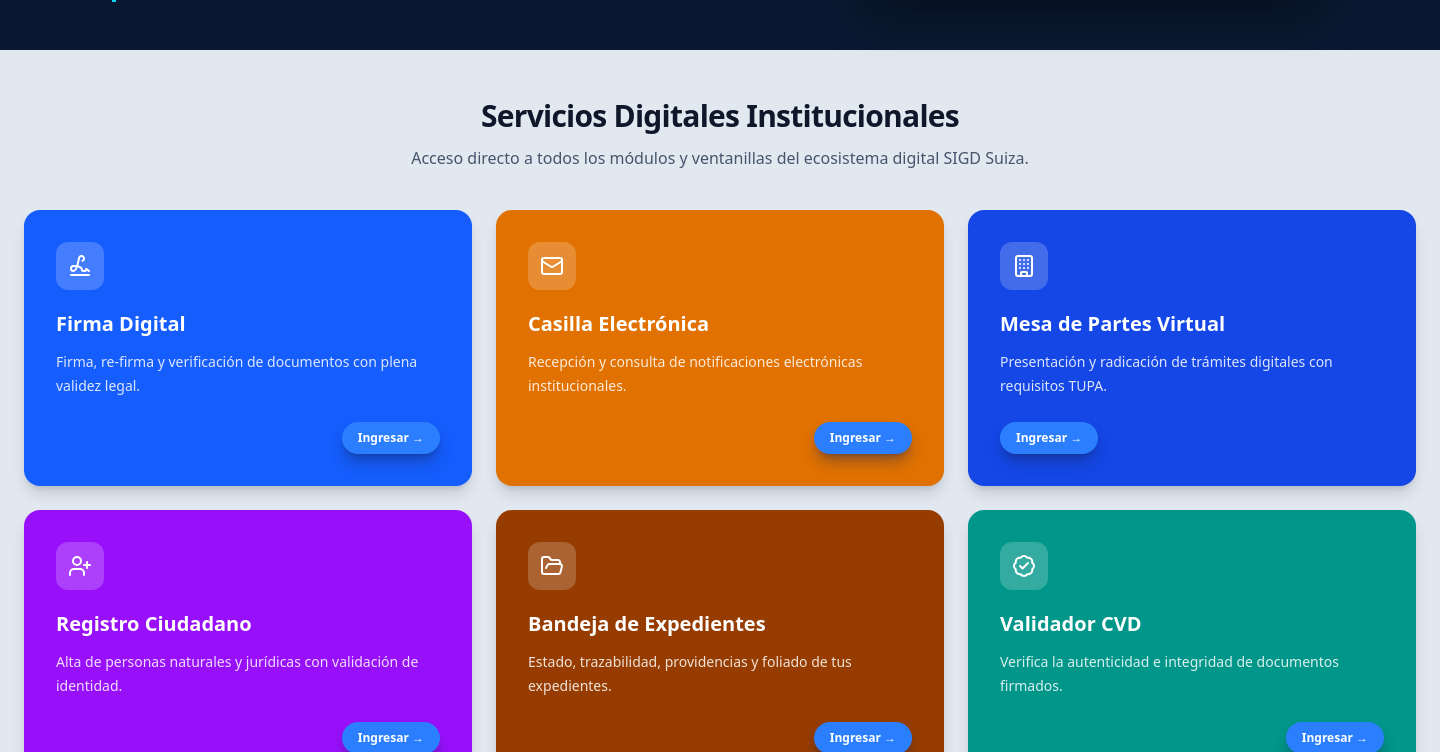
Test: Acceso a Mesa de Partes Virtual desde el portal › no entra directo: abre el modal de autenticación al pulsar Ingresar
(page scrolled)
Click the button "Mesa de Partes Virtual" at (1024, 266), box x1=968 y1=210 x2=1416 y2=486
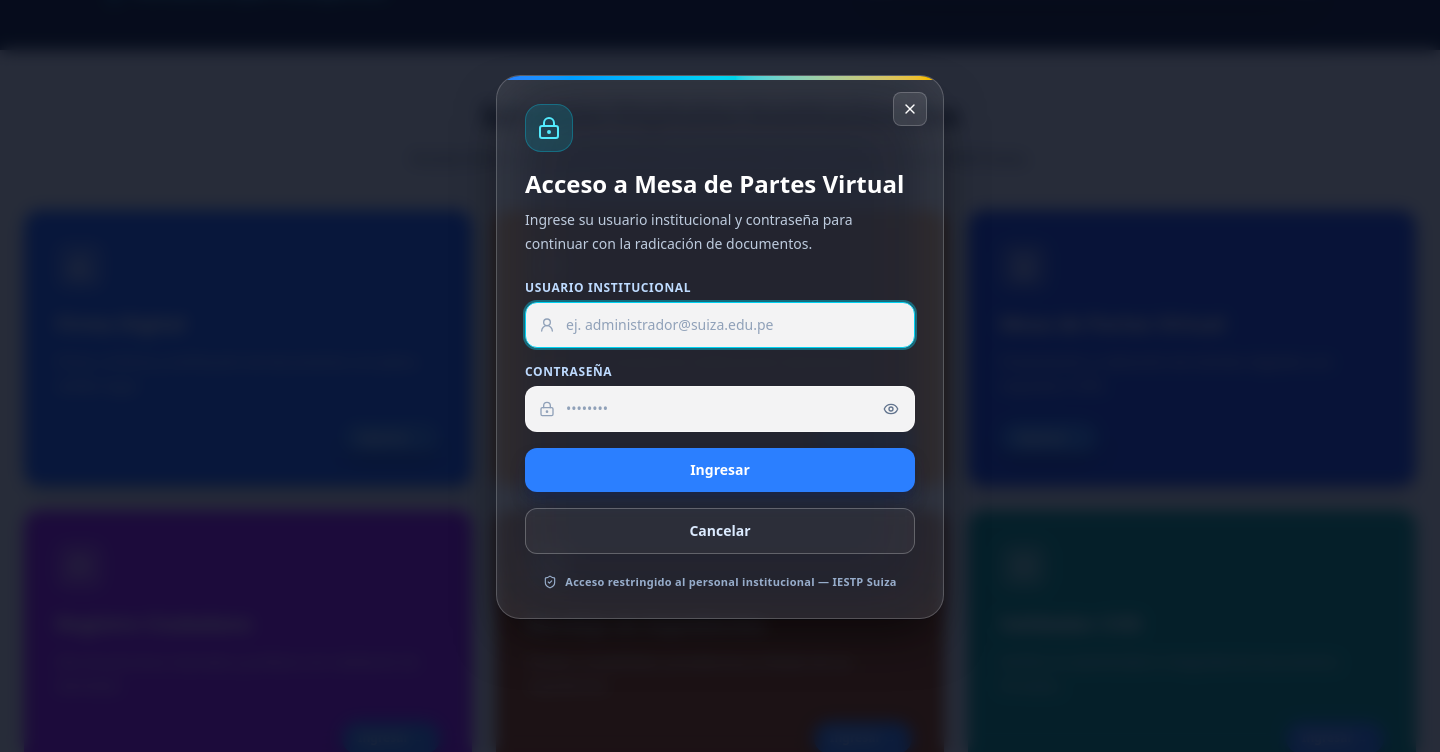
Now the dialog is shown, box x1=496 y1=75 x2=944 y2=619
